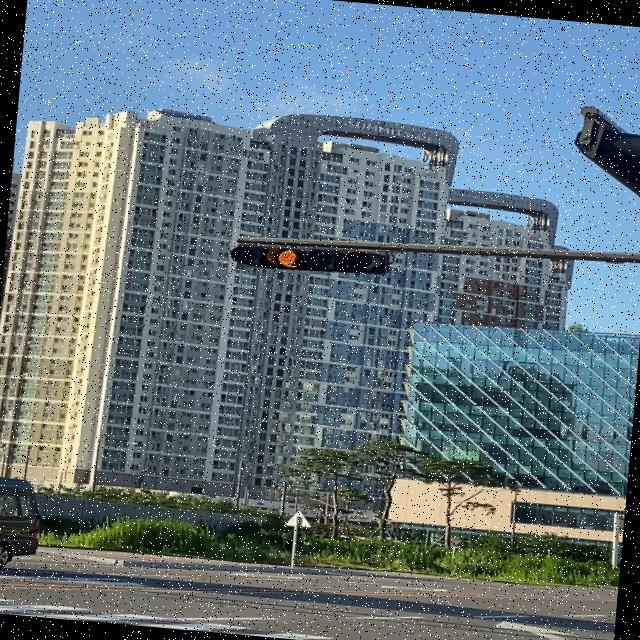yellow_light: (228, 237, 389, 279)
